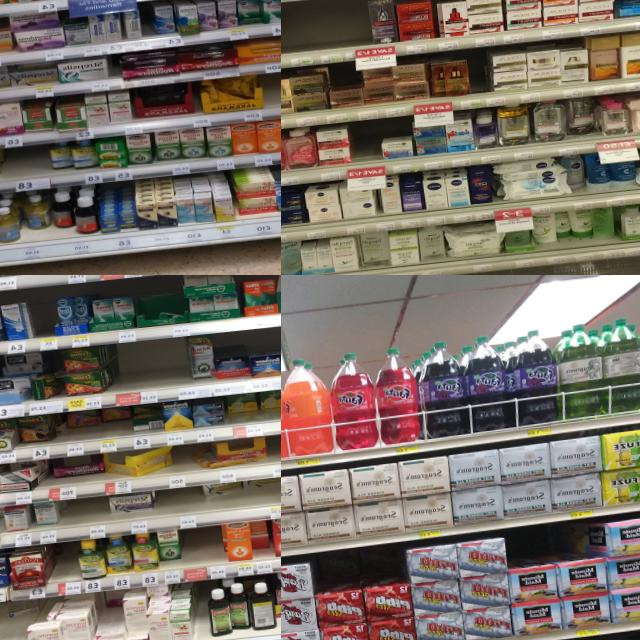100% O.O.S: (116, 342, 162, 404), (182, 524, 224, 580), (158, 338, 190, 401), (159, 486, 202, 530), (70, 496, 110, 540), (50, 542, 80, 595), (32, 296, 56, 350), (170, 444, 191, 488), (264, 434, 281, 477)
100- O.O.S: (346, 122, 384, 179), (310, 0, 343, 63), (338, 0, 372, 61), (6, 145, 51, 191), (284, 4, 314, 66), (466, 50, 489, 108), (281, 4, 288, 69)
